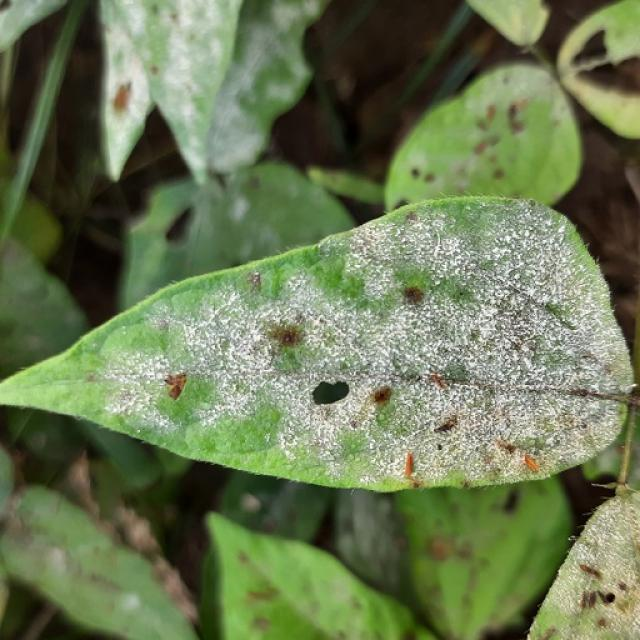Blackgram: (0, 198, 631, 490)
Powdery_Mildew: (107, 218, 614, 413), (244, 246, 422, 359), (410, 225, 568, 339), (397, 397, 597, 482), (119, 338, 279, 433), (169, 293, 313, 377), (185, 301, 305, 401), (299, 382, 421, 464), (152, 5, 230, 109), (168, 401, 284, 461), (294, 441, 421, 488), (569, 503, 636, 591), (431, 198, 550, 240), (94, 369, 178, 424), (540, 417, 600, 462), (366, 445, 410, 476), (356, 470, 383, 486), (282, 446, 298, 461), (283, 431, 297, 445)
